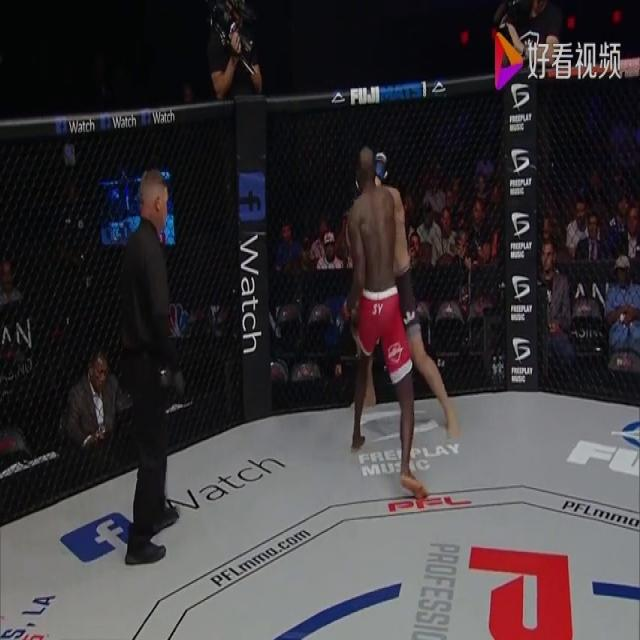fight: (334, 143, 454, 488)
non-fight: (90, 161, 188, 572)
